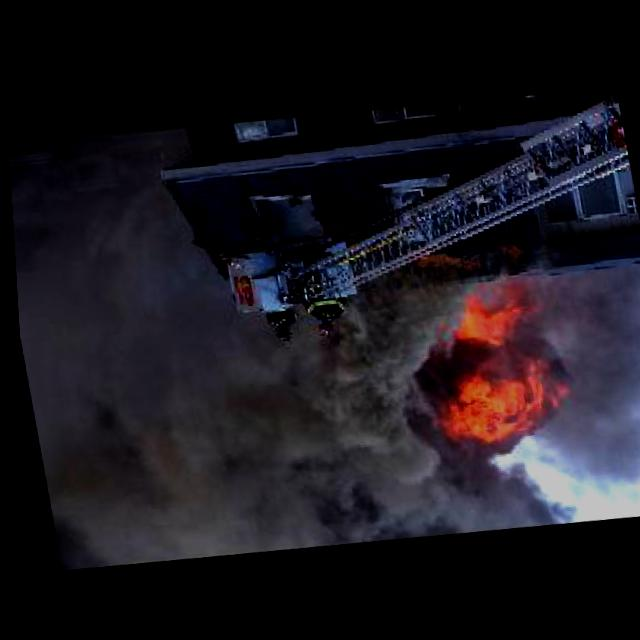Fire: (413, 280, 566, 459)
Smoke: (10, 216, 470, 579), (506, 247, 640, 493)
